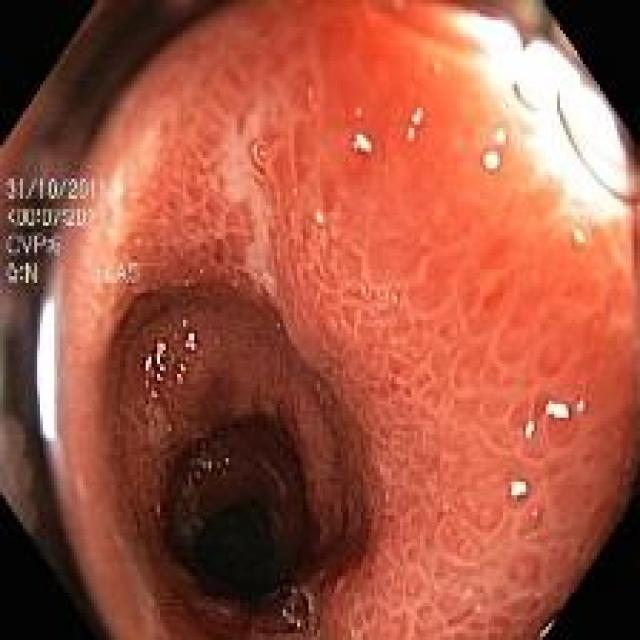ulcerative-colitis-grade-3: (59, 4, 639, 637)
